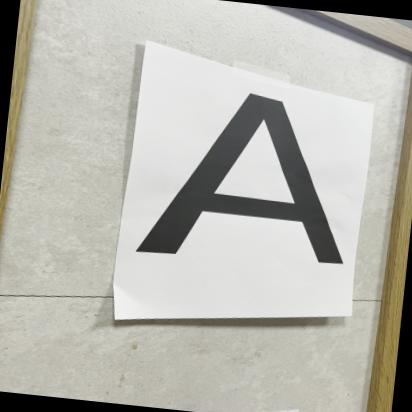seat: (124, 78, 380, 291)
